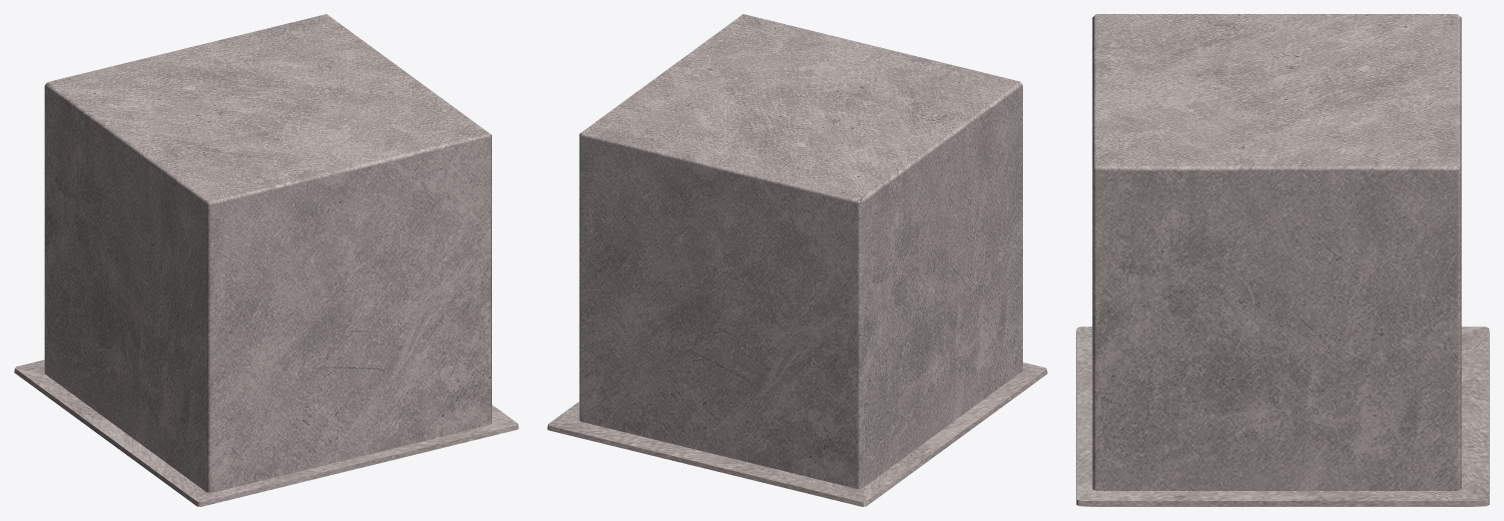
The model's file is SM_Square_Ducting_01b.glb.
The picture shows the model from 3 angles, left to right: view 1: azimuth 30°, elevation 25°; view 2: azimuth 150°, elevation 25°; view 3: azimuth 270°, elevation 25°; orthographic projection. The views are drawn at different scales.
Visible parts, largest first — view 1: SM_Square_Ducting_01b; view 2: SM_Square_Ducting_01b; view 3: SM_Square_Ducting_01b.
Boxes of the visible parts, left/top/right/bottom form: SM_Square_Ducting_01b: left=14, top=14, right=518, bottom=506; SM_Square_Ducting_01b: left=547, top=14, right=1047, bottom=506; SM_Square_Ducting_01b: left=1076, top=14, right=1489, bottom=506.
Bounding box in the file's own units: 1.11 × 1.01 × 1.11.
1 material, 1 textured.
